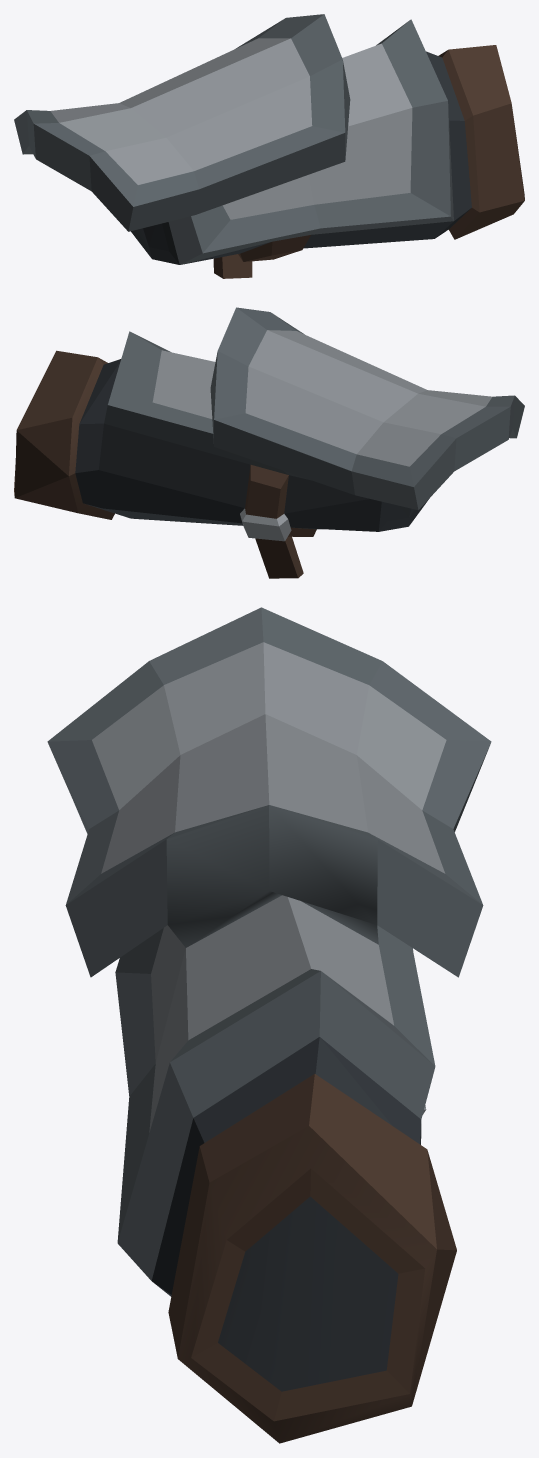
Rendered from Chr_ArmLowerRight_Female_11_Static.fbx.
3 renders of one model, top to bottom at view 1: azimuth 30°, elevation 25°; view 2: azimuth 150°, elevation 25°; view 3: azimuth 270°, elevation 25°, orthographic. The views are drawn at different scales.
Parts seen in each view (by area): view 1: Chr_ArmLowerRight_Female_11_Static; view 2: Chr_ArmLowerRight_Female_11_Static; view 3: Chr_ArmLowerRight_Female_11_Static.
Boxes of the visible parts, box(x1,y1,x2,y2) form: Chr_ArmLowerRight_Female_11_Static: box(14, 14, 524, 278); Chr_ArmLowerRight_Female_11_Static: box(14, 307, 524, 578); Chr_ArmLowerRight_Female_11_Static: box(47, 607, 491, 1443).
Size of the model in its own units: 0.3682 by 0.186 by 0.1541.
